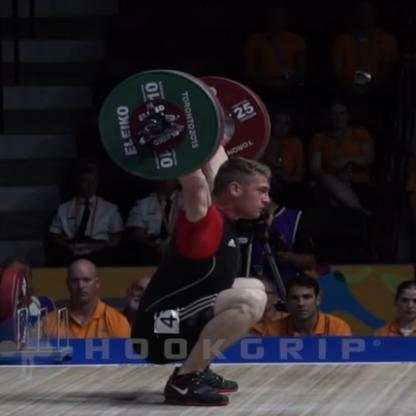barbell: (96, 68, 273, 181)
